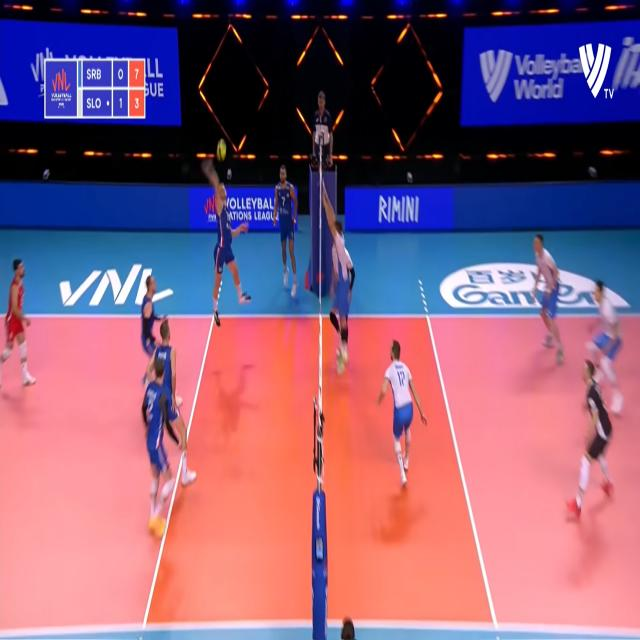player: (378, 329, 432, 495), (567, 359, 615, 525), (139, 359, 178, 548), (208, 170, 254, 326), (1, 250, 40, 398), (324, 192, 354, 372), (272, 148, 302, 302), (532, 232, 565, 370), (592, 274, 624, 416), (154, 317, 184, 428), (138, 268, 166, 358)
